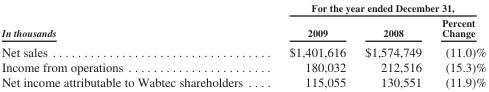table: (0, 1, 485, 89)
table column: (0, 1, 265, 89), (265, 1, 354, 89), (354, 1, 431, 89), (431, 1, 485, 89)
table column header: (0, 1, 485, 41)
table row: (0, 14, 485, 41), (0, 41, 485, 59), (0, 59, 485, 74), (0, 74, 485, 89), (0, 1, 485, 14)
table spanning cell: (0, 1, 265, 41), (265, 1, 485, 14)
